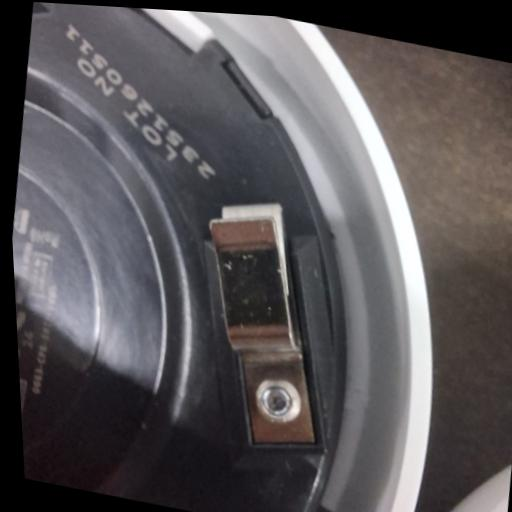yayli: (177, 194, 351, 461)
